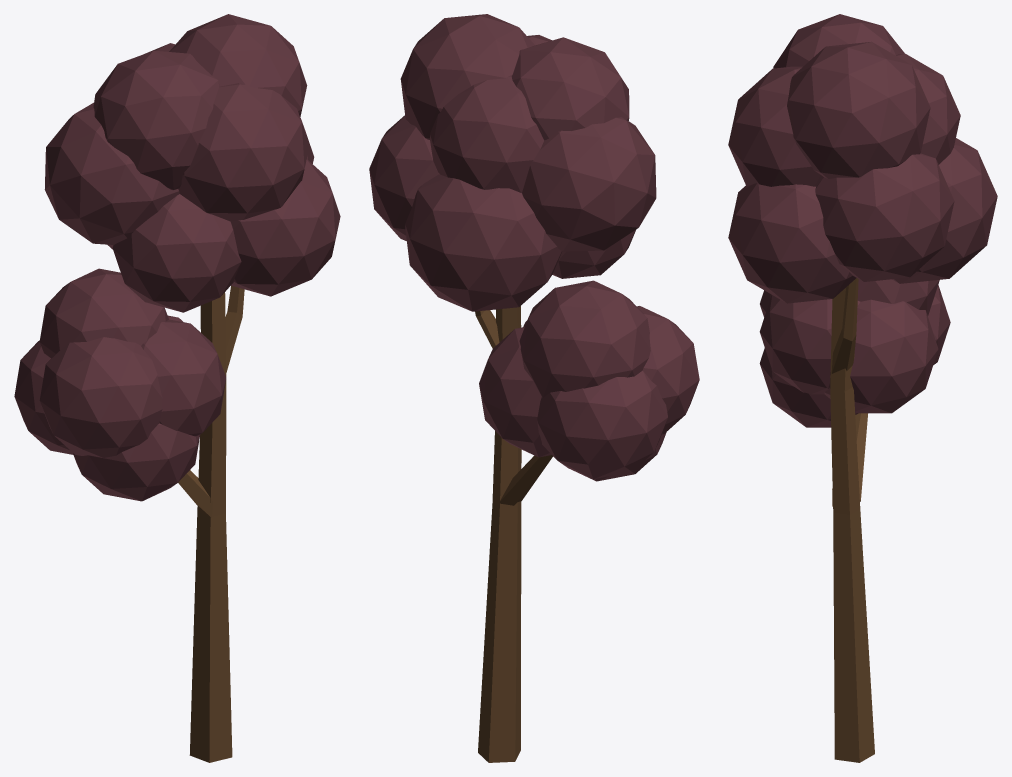
Rendered from tree.fbx.
The picture shows the model from 3 angles, left to right: view 1: azimuth 30°, elevation 25°; view 2: azimuth 150°, elevation 25°; view 3: azimuth 270°, elevation 25°; orthographic projection.
Parts seen in each view (by area): view 1: tree; view 2: tree; view 3: tree.
Part boxes in pixels (x1=…): tree: x1=14, y1=14, x2=340, y2=762; tree: x1=369, y1=14, x2=699, y2=762; tree: x1=728, y1=14, x2=997, y2=762.
Bounding box in the file's own units: 3.93 × 9.77 × 3.33.
